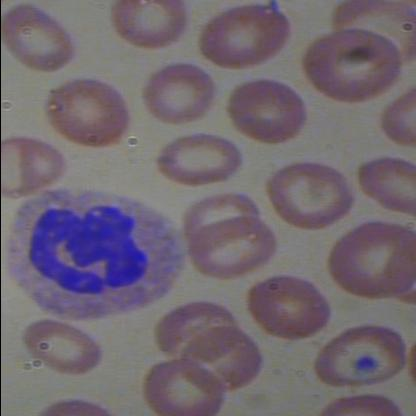RBC: (256, 157, 358, 234), (304, 29, 406, 106), (324, 219, 415, 303), (314, 320, 414, 394), (183, 211, 276, 287), (197, 2, 293, 72), (1, 4, 91, 75), (48, 78, 132, 154), (180, 324, 264, 398), (246, 274, 332, 346), (226, 77, 312, 145), (143, 352, 230, 415), (138, 62, 219, 129), (20, 317, 104, 381), (154, 132, 244, 190), (0, 134, 78, 200), (109, 1, 200, 57), (352, 152, 415, 223)
WBC: (1, 178, 189, 324)
